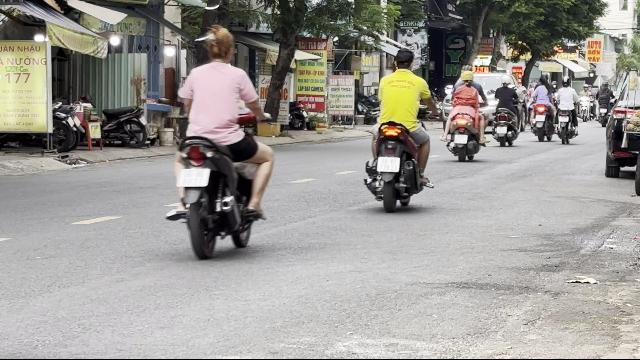licenseplate: (177, 169, 210, 187), (377, 156, 399, 172)
motorcyclist: (167, 25, 276, 256), (363, 48, 435, 210)
nohelmet: (195, 26, 235, 64), (392, 49, 414, 71)
